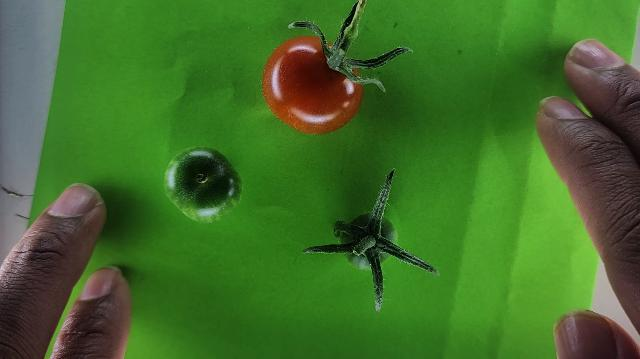Fruit Maturation: (163, 145, 243, 224), (338, 213, 397, 270)
Fully Grown: (260, 33, 365, 135)
